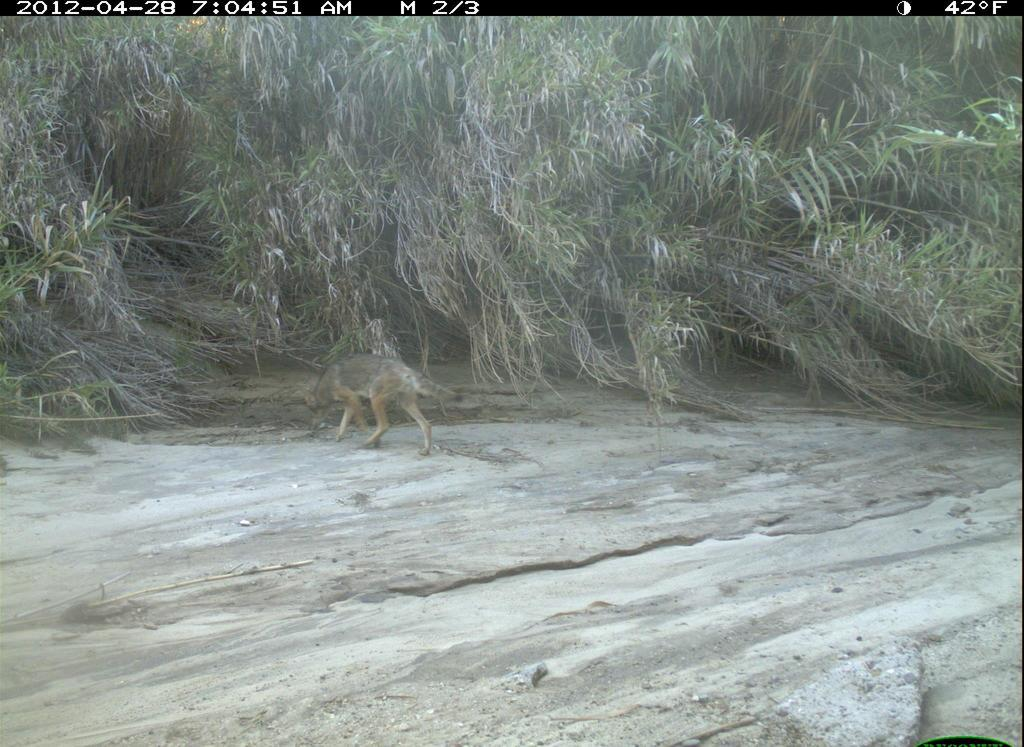coyote: (289, 340, 469, 463)
